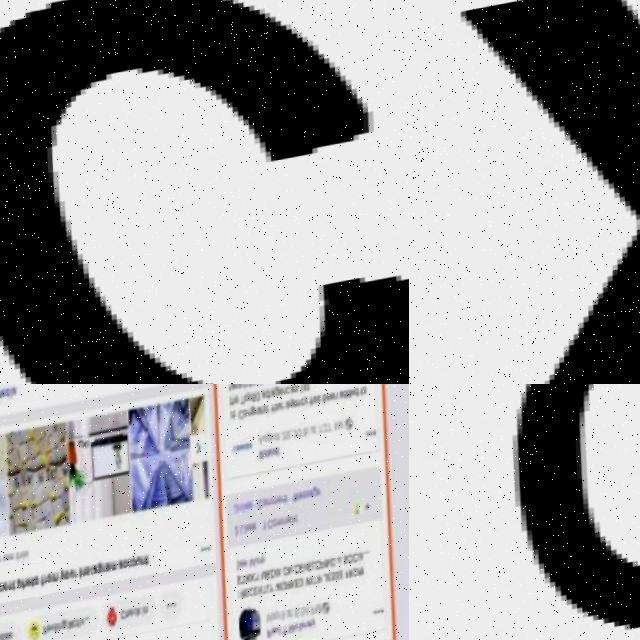0: (257, 400, 263, 413), (299, 438, 305, 449), (294, 384, 300, 392)
1: (266, 530, 269, 541), (303, 438, 306, 448)
2: (236, 535, 243, 546), (295, 439, 301, 450), (284, 441, 290, 451), (326, 434, 331, 444)
4: (308, 617, 314, 627)
5: (253, 403, 259, 412), (290, 384, 296, 393), (305, 617, 309, 628)
6: (297, 618, 304, 630), (306, 436, 312, 449)
7: (329, 433, 335, 444), (320, 435, 325, 445)
9: (285, 620, 291, 632), (287, 440, 293, 451)
A: (335, 432, 342, 443), (340, 567, 347, 578), (109, 568, 115, 579), (281, 577, 287, 588), (312, 436, 319, 445), (96, 571, 102, 581), (72, 625, 78, 635), (261, 445, 267, 455), (362, 564, 368, 574), (274, 623, 281, 631), (289, 620, 296, 628), (121, 567, 127, 576), (13, 391, 19, 400), (263, 400, 269, 409), (287, 411, 293, 419), (311, 501, 316, 509), (315, 406, 320, 414), (259, 416, 263, 424), (341, 403, 345, 409), (273, 400, 277, 406), (297, 384, 303, 388), (273, 637, 280, 640), (305, 384, 309, 386)
B: (325, 406, 329, 414), (2, 384, 7, 386)
C: (0, 0, 375, 384), (270, 528, 277, 541), (252, 595, 259, 608), (123, 616, 130, 627), (130, 565, 137, 576), (240, 418, 246, 430), (261, 509, 267, 520), (126, 566, 132, 576), (356, 565, 362, 575), (1, 588, 8, 596), (76, 625, 82, 633), (136, 615, 142, 623), (287, 396, 291, 405), (303, 410, 307, 416)
D: (483, 384, 640, 640), (7, 392, 13, 404), (274, 578, 280, 590), (302, 588, 309, 598), (297, 575, 304, 585), (345, 400, 350, 413), (356, 398, 361, 411), (277, 457, 283, 467), (350, 400, 354, 413), (267, 399, 271, 411), (4, 635, 10, 640), (302, 384, 306, 389)
E: (5, 586, 12, 596), (270, 578, 275, 591), (311, 571, 316, 584), (246, 568, 253, 577), (351, 400, 358, 409), (257, 596, 263, 606), (298, 588, 303, 600), (8, 558, 15, 566), (250, 511, 257, 519), (54, 628, 60, 637), (13, 556, 19, 565), (2, 393, 8, 402), (289, 526, 295, 535), (319, 499, 325, 508), (273, 458, 279, 467), (280, 397, 286, 406), (331, 582, 335, 595), (249, 597, 254, 607), (295, 410, 301, 418), (328, 404, 334, 412), (237, 405, 243, 413), (50, 629, 55, 638), (293, 395, 298, 404), (343, 581, 347, 592), (331, 404, 337, 411), (303, 574, 307, 584), (265, 565, 269, 574), (302, 502, 306, 511), (241, 389, 245, 398), (133, 615, 137, 623), (243, 569, 247, 577), (252, 533, 256, 541), (281, 506, 285, 514), (8, 635, 14, 640), (0, 587, 3, 597), (312, 632, 316, 638), (234, 392, 238, 398)
F: (45, 628, 51, 640), (348, 581, 354, 592), (43, 580, 48, 593)
G: (314, 496, 321, 509), (100, 568, 106, 581), (291, 406, 297, 419), (334, 567, 340, 580), (276, 396, 282, 408), (65, 624, 71, 635), (252, 415, 258, 424), (269, 441, 273, 454)
H: (24, 583, 31, 596), (321, 583, 327, 596), (129, 615, 134, 626), (21, 556, 26, 566), (229, 393, 235, 401), (312, 408, 316, 416), (233, 407, 237, 415), (246, 390, 250, 398)
I: (82, 623, 86, 633), (145, 614, 149, 624), (247, 534, 251, 544), (278, 578, 282, 588), (60, 627, 63, 640), (82, 574, 85, 586), (314, 586, 317, 597), (25, 555, 28, 565), (247, 512, 250, 522), (241, 599, 244, 609), (328, 570, 331, 580), (360, 565, 363, 575), (13, 391, 15, 403), (291, 397, 294, 405), (303, 395, 306, 403), (248, 584, 251, 592)
J: (328, 583, 332, 595)
K: (293, 589, 300, 600), (253, 582, 260, 593), (248, 533, 253, 544), (140, 615, 145, 625), (249, 511, 253, 522), (270, 458, 274, 469), (251, 583, 255, 593)
L: (269, 594, 274, 604), (315, 572, 320, 582), (243, 534, 247, 545), (245, 512, 249, 522), (57, 629, 60, 639), (302, 395, 305, 404), (301, 633, 304, 640), (282, 636, 285, 640)
M: (270, 623, 277, 634), (296, 503, 303, 514), (252, 567, 259, 577), (319, 615, 325, 626), (340, 431, 346, 442), (265, 580, 271, 591), (55, 579, 62, 588), (362, 578, 368, 588), (114, 569, 121, 577), (280, 528, 286, 537), (275, 506, 281, 515), (292, 633, 299, 640), (269, 508, 276, 515), (285, 528, 291, 535), (0, 393, 3, 405)
N: (329, 569, 336, 580), (260, 595, 267, 605), (291, 576, 298, 586), (307, 631, 314, 640), (84, 573, 90, 583), (10, 586, 16, 595), (144, 564, 150, 573), (293, 525, 299, 533), (62, 627, 67, 636), (266, 460, 272, 467), (284, 505, 288, 514), (0, 559, 5, 566), (148, 614, 152, 621), (241, 513, 245, 520), (284, 398, 288, 405), (249, 419, 253, 425), (300, 410, 304, 416), (336, 404, 340, 410)
O: (318, 570, 325, 583), (287, 575, 293, 588), (134, 564, 141, 575), (351, 565, 357, 577), (67, 576, 74, 586), (50, 579, 56, 590), (29, 583, 36, 592), (363, 398, 370, 407), (285, 592, 291, 602), (357, 579, 363, 589), (37, 582, 43, 591), (303, 633, 310, 640), (257, 567, 264, 574), (274, 529, 280, 537), (297, 633, 303, 640), (244, 419, 250, 426), (275, 414, 281, 420), (246, 403, 250, 412), (266, 509, 270, 516), (11, 636, 17, 640), (283, 384, 287, 389)
P: (323, 569, 330, 582), (20, 582, 26, 594), (249, 402, 255, 411), (315, 616, 319, 626), (255, 386, 259, 394), (271, 638, 276, 640)
R: (352, 578, 358, 591), (261, 460, 268, 470), (289, 590, 295, 601), (244, 598, 250, 608), (106, 569, 110, 580), (46, 581, 51, 589), (77, 575, 81, 583), (258, 417, 261, 424), (262, 567, 265, 573), (284, 413, 287, 419), (238, 391, 241, 397)
S: (239, 568, 245, 581), (239, 585, 246, 595), (89, 572, 95, 583), (347, 566, 353, 577), (338, 582, 344, 592), (335, 582, 340, 593), (318, 406, 324, 414), (308, 501, 313, 510), (277, 442, 281, 451), (27, 555, 31, 563), (256, 532, 260, 540), (305, 502, 309, 510), (265, 415, 269, 423), (5, 560, 10, 566), (296, 396, 300, 403), (305, 394, 309, 400)
T: (265, 594, 272, 605), (317, 586, 323, 597), (34, 583, 39, 593), (242, 405, 248, 413), (361, 399, 366, 408), (294, 619, 298, 630), (16, 586, 20, 596), (94, 573, 98, 583), (18, 557, 23, 565), (287, 504, 291, 514), (245, 584, 249, 594), (297, 525, 301, 534), (262, 416, 266, 425), (308, 394, 312, 403), (285, 635, 292, 640), (80, 625, 84, 633), (230, 407, 234, 415), (150, 564, 153, 574), (280, 442, 283, 452), (317, 435, 320, 445), (249, 389, 252, 397), (251, 389, 254, 397), (281, 384, 284, 392)
U: (236, 513, 242, 524), (139, 565, 146, 573), (72, 576, 78, 584), (264, 445, 270, 452), (272, 444, 278, 450), (280, 413, 284, 421), (277, 637, 284, 640)
V: (306, 573, 313, 584), (84, 623, 88, 632)
W: (309, 585, 316, 598), (278, 592, 285, 602), (264, 386, 270, 393), (269, 385, 275, 392), (274, 384, 280, 391)
X: (438, 0, 640, 384)
Y: (258, 580, 265, 593), (315, 629, 321, 640), (279, 618, 284, 631), (306, 404, 311, 417), (273, 594, 279, 604), (272, 414, 278, 423), (64, 574, 68, 587)
